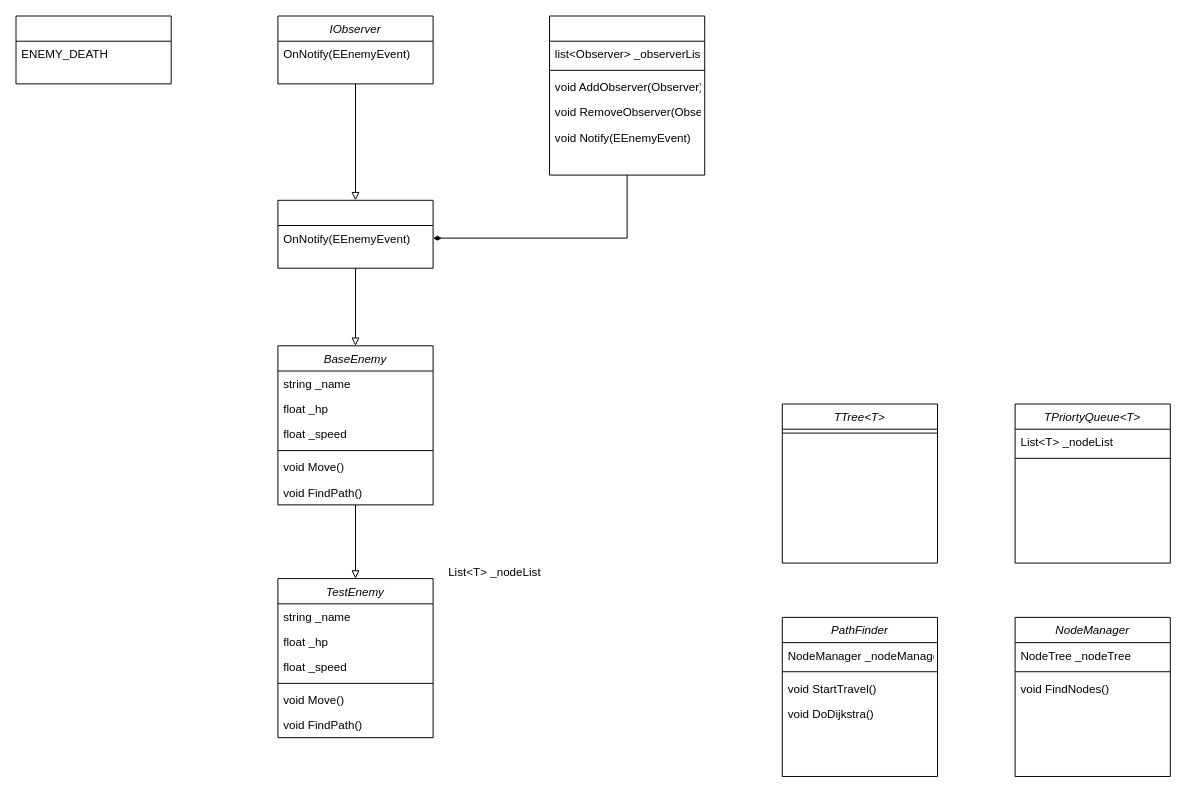
Some shapes in this 1186 by 792 pixel diagram are drawn without their labels. The box of each missing label's shape, as (x1, y1, x2, y2) in pixels:
EEnemyEvent: (15, 15, 171, 84)
EnemyNotifier: (549, 15, 705, 175)
EnemyObserver: (277, 199, 433, 268)
